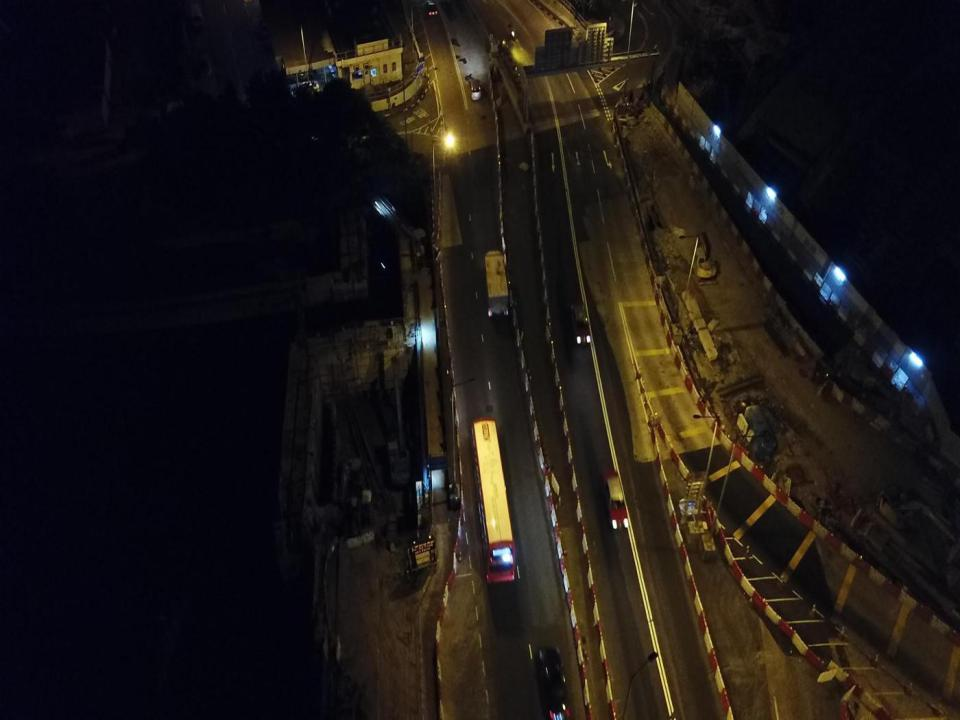bus: (472, 416, 518, 586)
car: (538, 645, 569, 717), (601, 467, 629, 532), (571, 302, 589, 346), (425, 0, 438, 17)
truck: (483, 249, 509, 317)
van: (470, 78, 481, 100)
